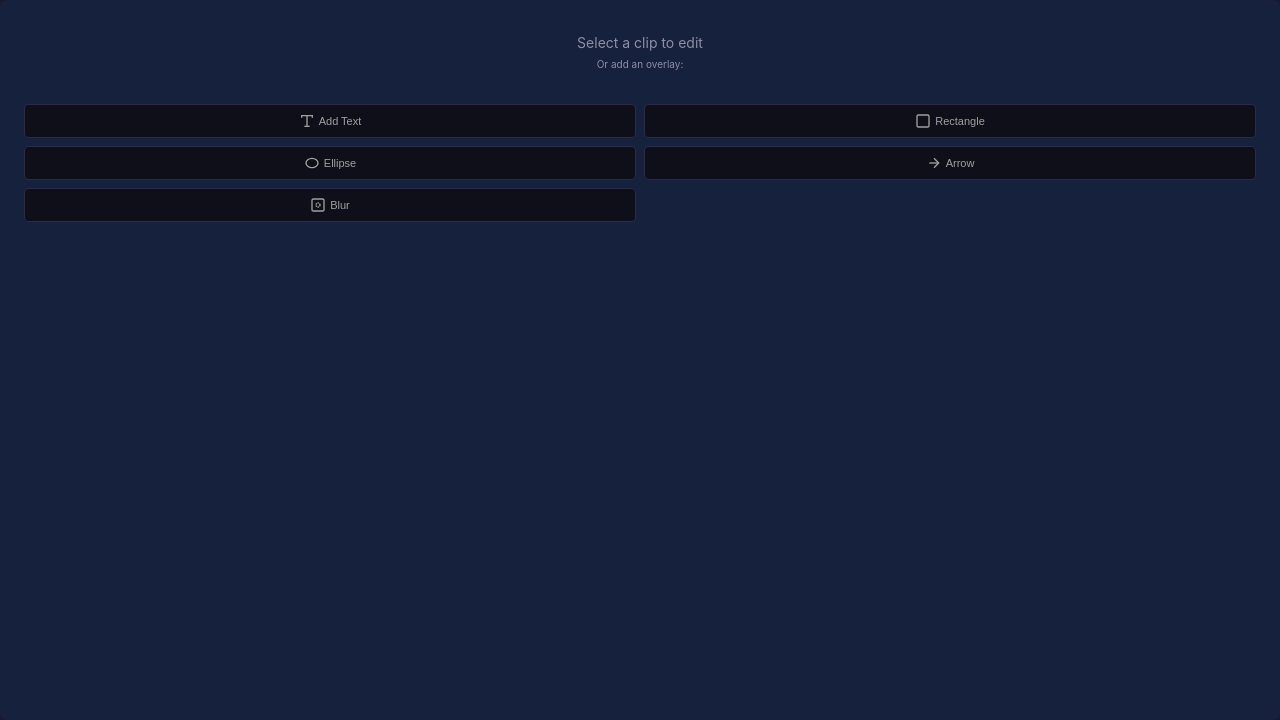
Test case: ClipEditor › with no clip selected › adds a text overlay clip
Click the button "Add Text" at (330, 121), box [24,104,636,138]
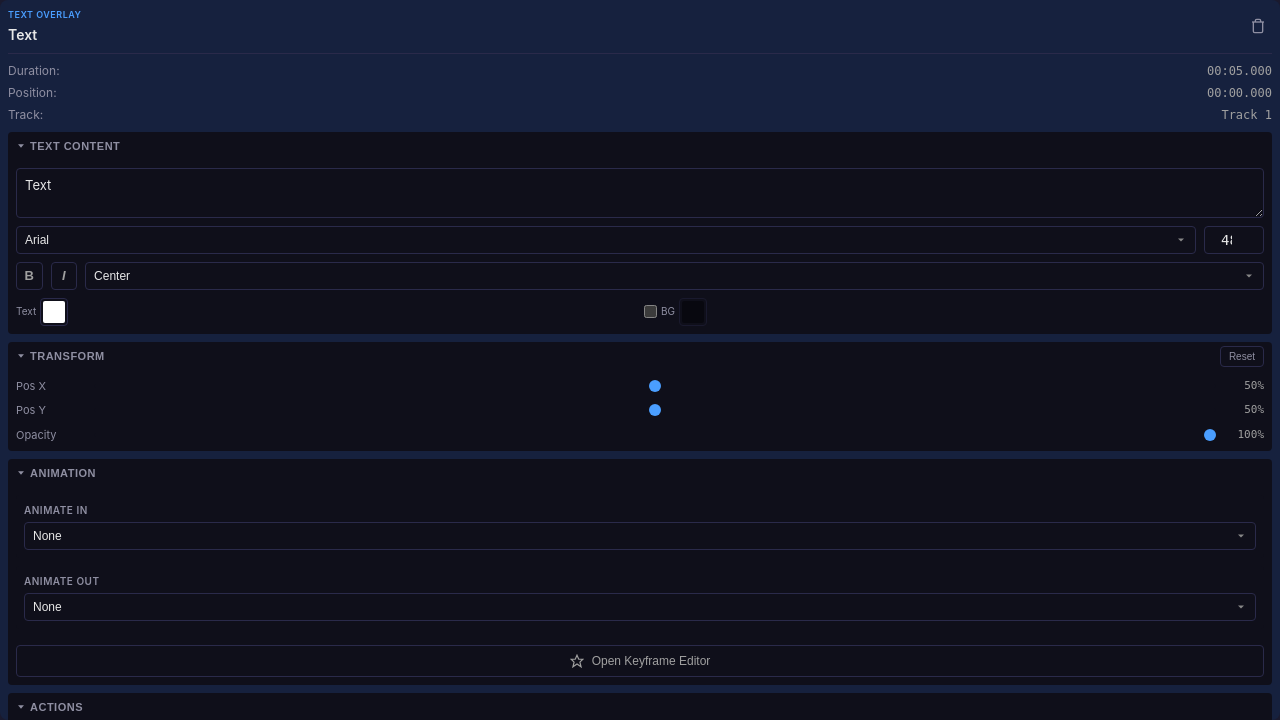
Now the heading "Text" is shown, box [8,26,37,42]
